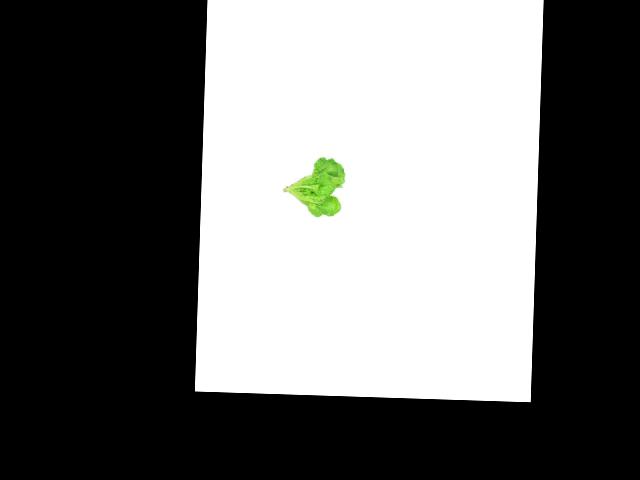lettuce: (280, 152, 349, 220)
